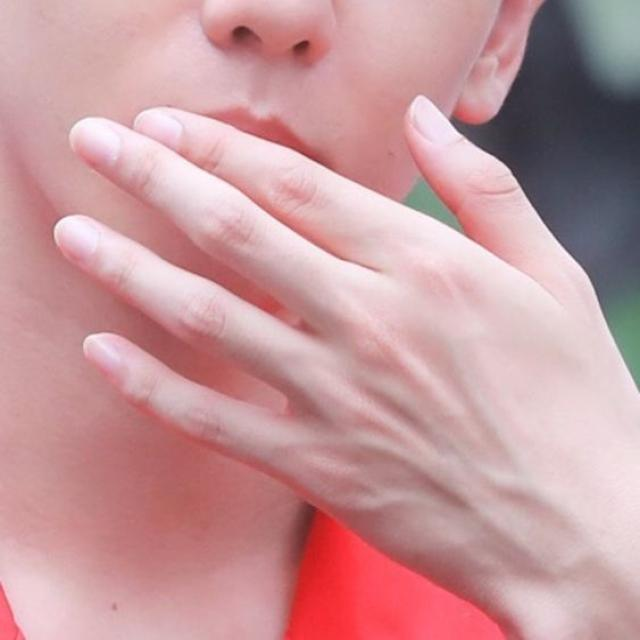Fingernail: (411, 94, 464, 146), (69, 121, 119, 165), (134, 108, 182, 151), (55, 218, 99, 258), (85, 337, 120, 373)
